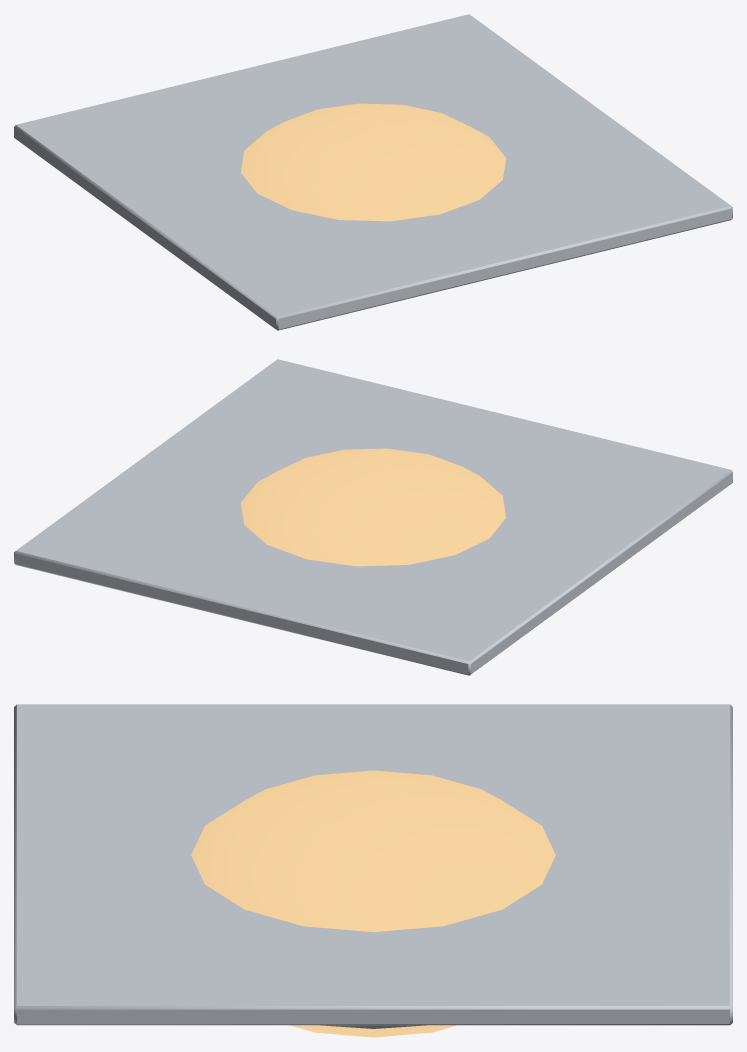
File: ceilingpanel_dome_light_1x1.glb
The picture shows the model from 3 angles, top to bottom: view 1: azimuth 30°, elevation 25°; view 2: azimuth 150°, elevation 25°; view 3: azimuth 270°, elevation 25°; orthographic projection. The views are drawn at different scales.
Visible parts, largest first — view 1: ceilingpanel_dome_light_1x1; view 2: ceilingpanel_dome_light_1x1; view 3: ceilingpanel_dome_light_1x1.
Part boxes in pixels (<box>): ceilingpanel_dome_light_1x1: <box>14,14,732,330</box>; ceilingpanel_dome_light_1x1: <box>14,359,732,675</box>; ceilingpanel_dome_light_1x1: <box>14,704,732,1037</box>.
Size of the model in its own units: 1 by 0.3 by 1.
